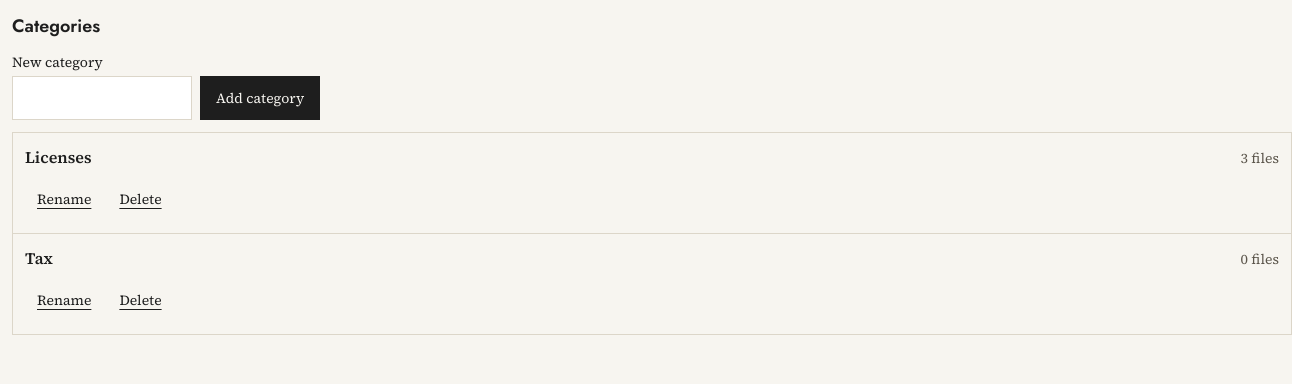
it: CategoryManager › adds a category and clears the field, or shows why not
This screenshot has width=1292, height=384.
In the field labelled "New category": [102, 98] box [12,76,192,120], type "Warranty"
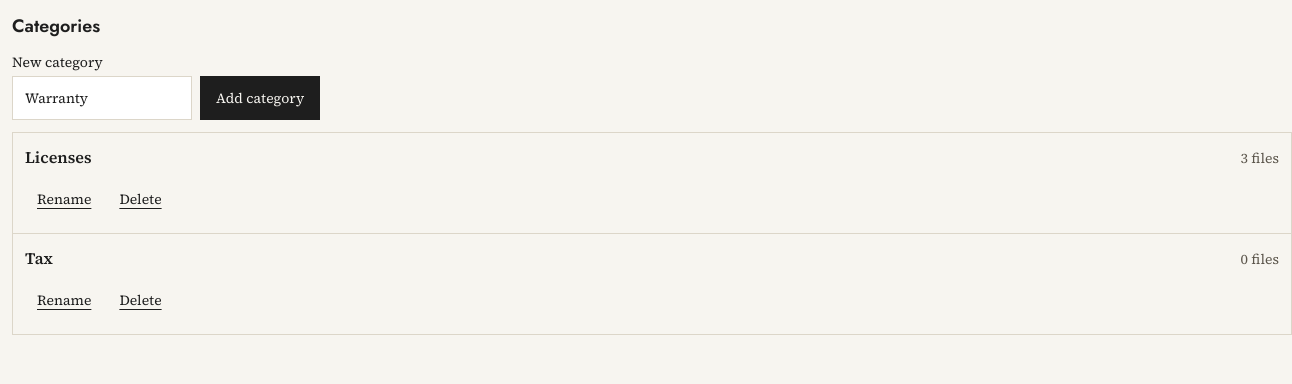
Click the button "Add category": [260, 98] box [200,76,320,120]
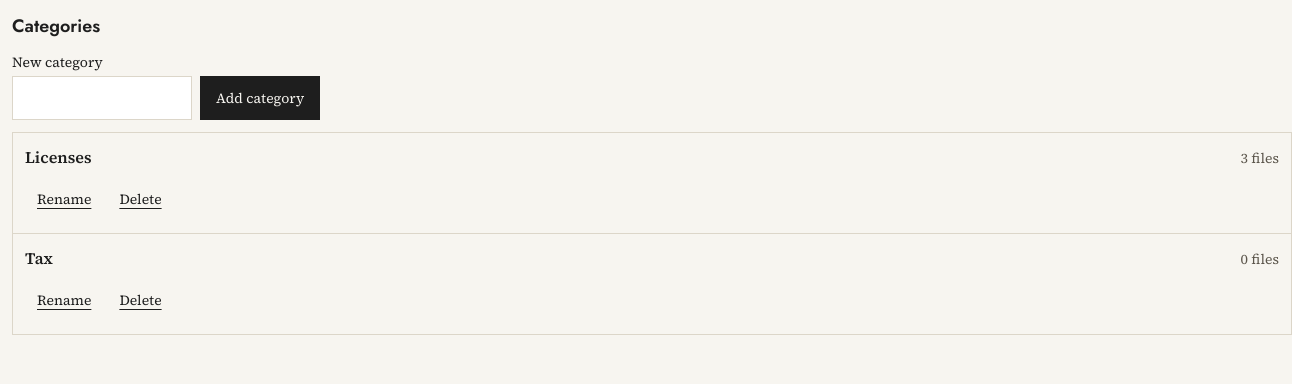
Expected: the field labelled "New category" is empty
In the field labelled "New category": [102, 98] box [12,76,192,120], type "Tax"
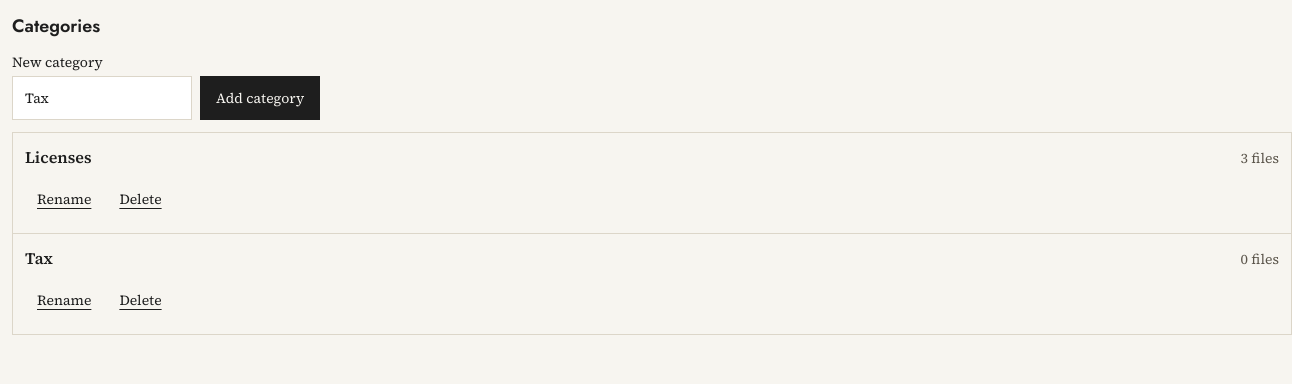
Click the button "Add category": [260, 98] box [200,76,320,120]
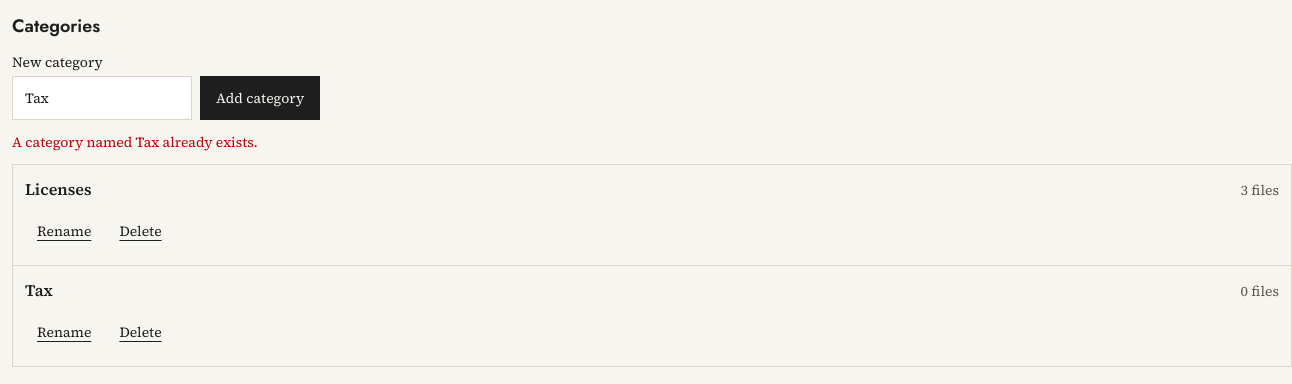
Expected: the message reads "A category named Tax already exists.", [12,132,258,152]
